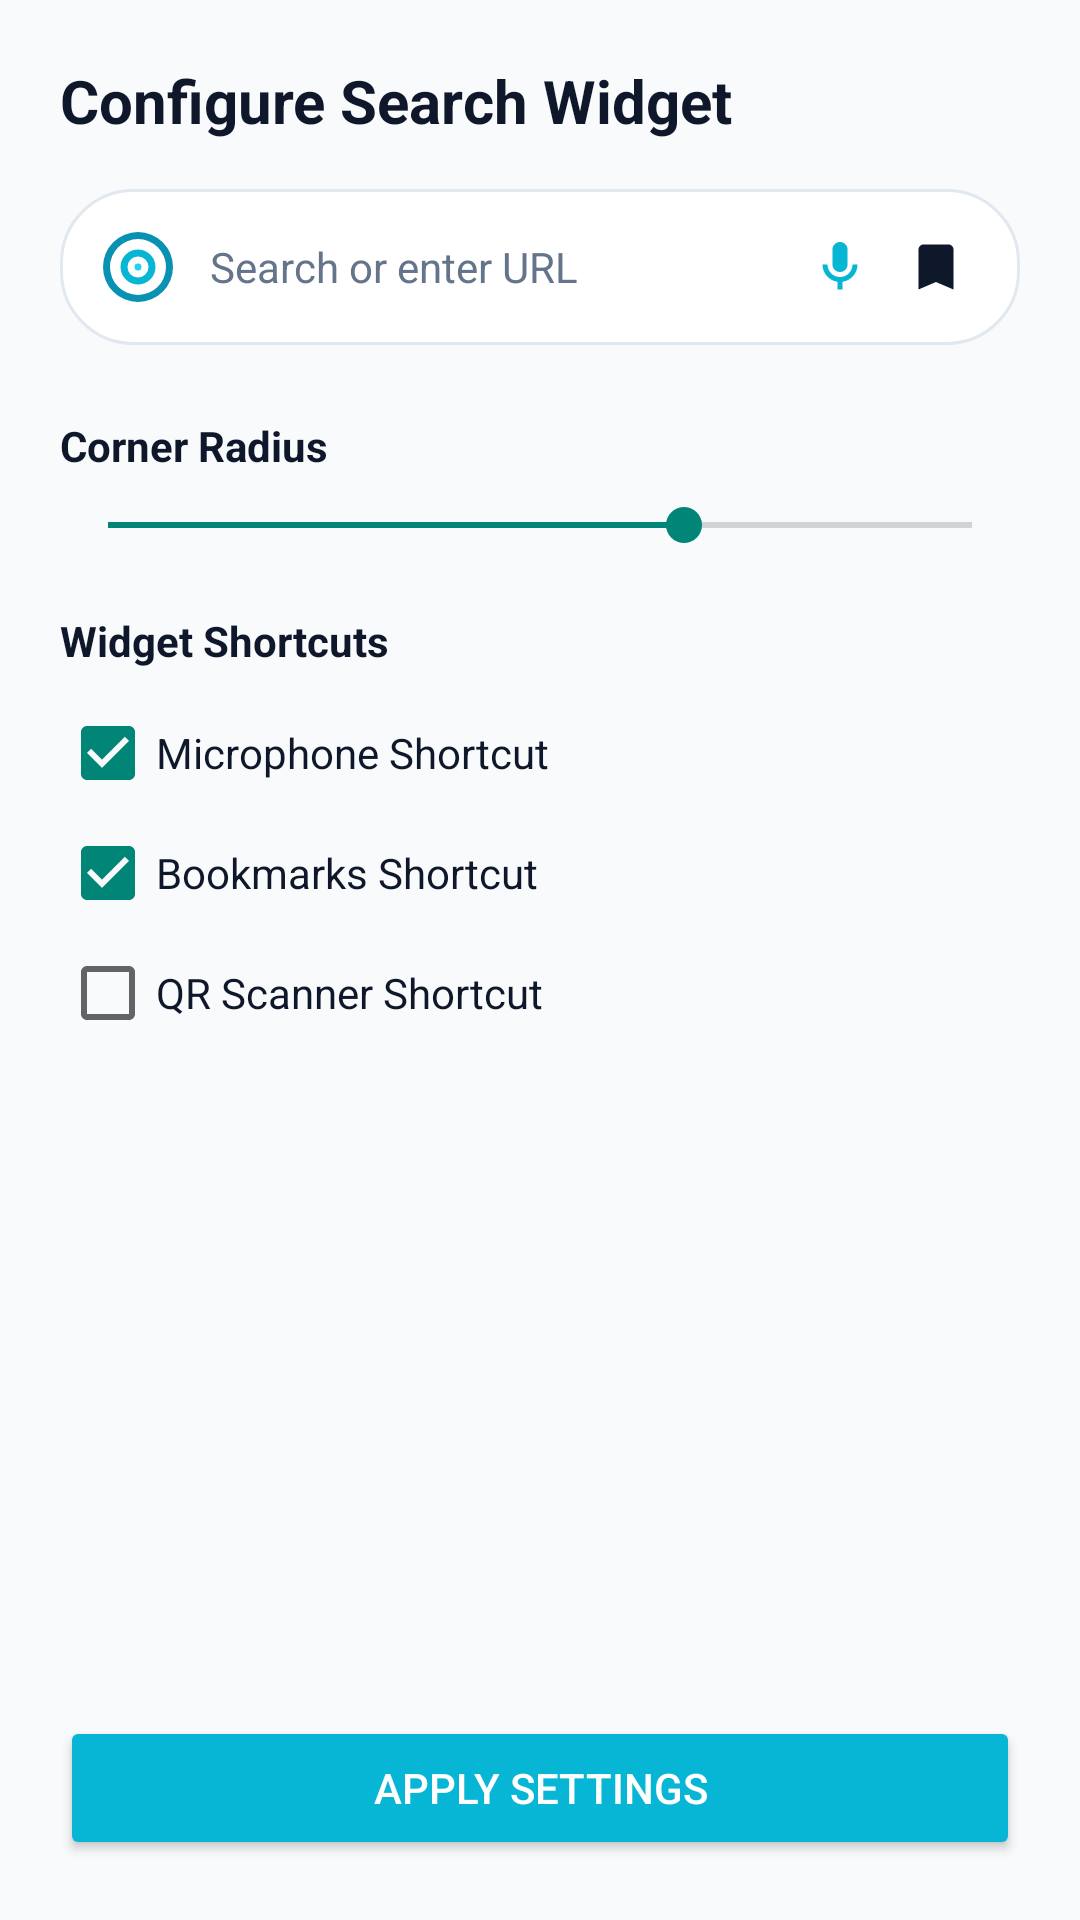

Icons on this 1080x1920 Android screen, each with the point to tap as point (x, y):
Bookmarks Shortcut: point (936, 267)
Microphone Shortcut: point (840, 266)
